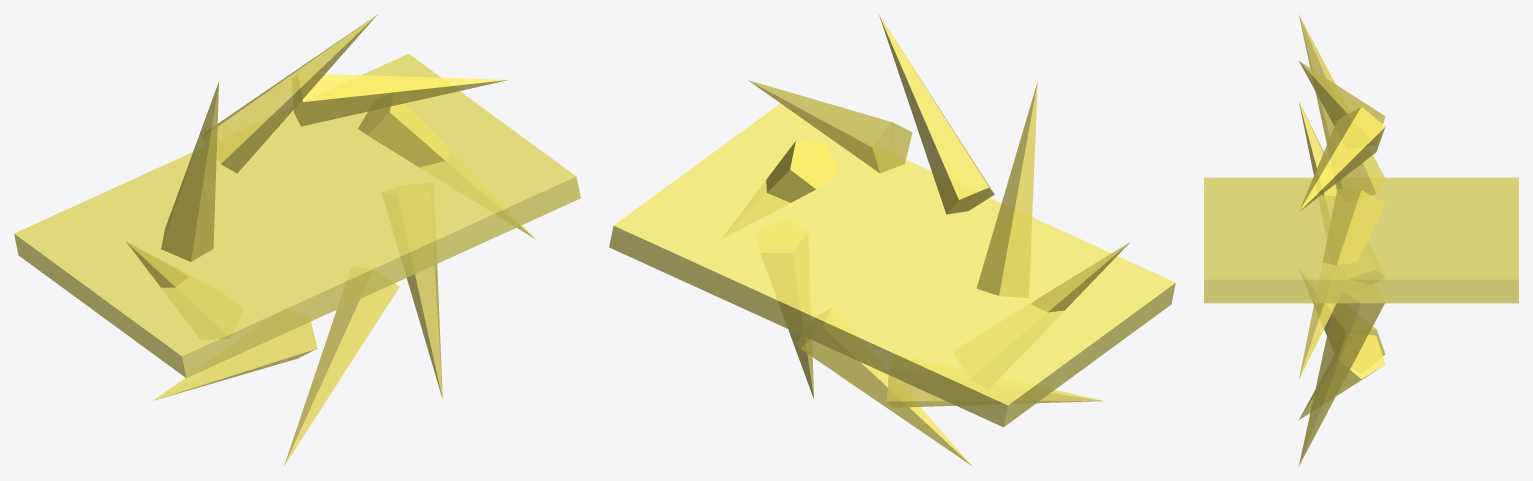
Rendered from vfx_block_spark.glb.
The picture shows the model from 3 angles, left to right: view 1: azimuth 30°, elevation 25°; view 2: azimuth 150°, elevation 25°; view 3: azimuth 270°, elevation 25°; orthographic projection. The views are drawn at different scales.
Visible parts, largest first — view 1: flash, spark_ray_3, spark_ray_2, spark_ray_4, spark_ray_7, spark_ray_1, spark_ray_6, spark_ray_0, spark_ray_5; view 2: flash, spark_ray_4, spark_ray_3, spark_ray_2, spark_ray_7, spark_ray_1, spark_ray_6, spark_ray_5; view 3: flash, spark_ray_0, spark_ray_1, spark_ray_2, spark_ray_4, spark_ray_3, spark_ray_7, spark_ray_5.
Part boxes in pixels (<box>): flash: <box>14,53,580,377</box>; spark_ray_3: <box>216,14,377,173</box>; spark_ray_2: <box>294,74,507,126</box>; spark_ray_4: <box>161,81,219,261</box>; spark_ray_7: <box>284,283,399,465</box>; spark_ray_1: <box>358,103,534,238</box>; spark_ray_6: <box>153,321,317,400</box>; spark_ray_0: <box>407,264,442,398</box>; spark_ray_5: <box>126,241,188,287</box>; flash: <box>609,103,1175,427</box>; spark_ray_4: <box>976,82,1037,298</box>; spark_ray_3: <box>879,15,994,214</box>; spark_ray_2: <box>748,80,912,173</box>; spark_ray_7: <box>796,335,972,466</box>; spark_ray_1: <box>766,140,838,202</box>; spark_ray_6: <box>887,375,1102,407</box>; spark_ray_5: <box>1030,242,1129,312</box>; flash: <box>1204,177,1518,303</box>; spark_ray_0: <box>1298,303,1384,466</box>; spark_ray_1: <box>1299,189,1385,379</box>; spark_ray_2: <box>1299,106,1385,211</box>; spark_ray_4: <box>1298,14,1385,195</box>; spark_ray_3: <box>1299,61,1385,125</box>; spark_ray_7: <box>1299,335,1385,419</box>; spark_ray_5: <box>1299,101,1336,196</box>.
Bounding box in the file's own units: 0.9185 × 0.9185 × 0.65.
